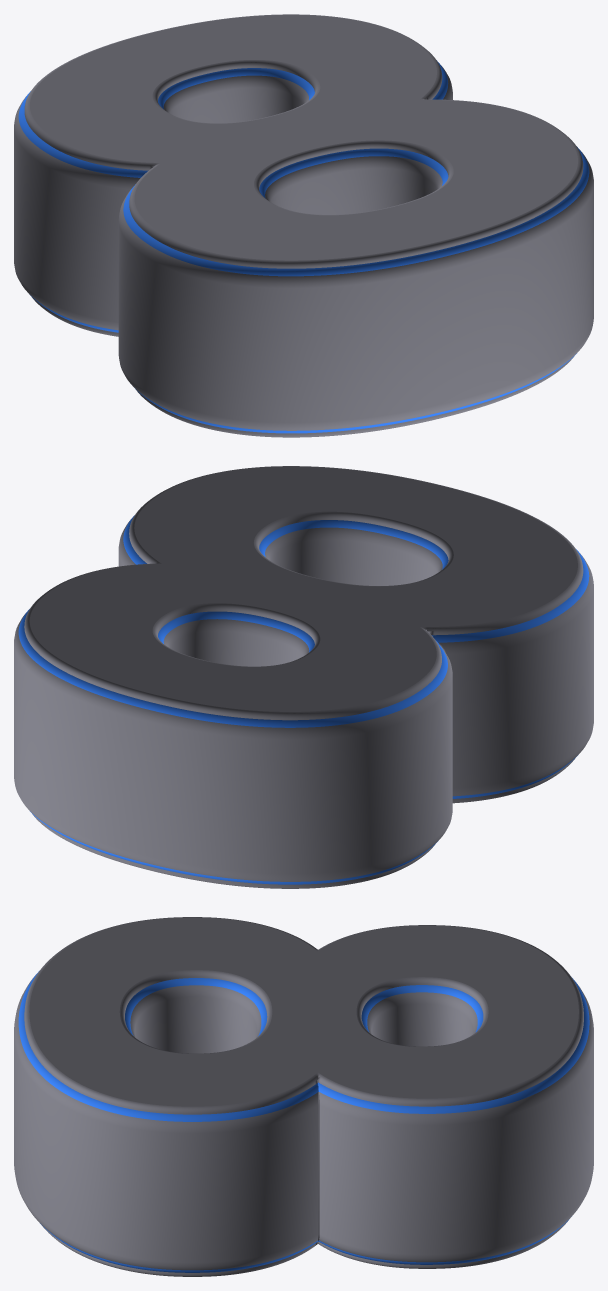
The model's file is 3d_number_-_8_eight.fbx.
3 renders of one model, top to bottom at view 1: azimuth 30°, elevation 25°; view 2: azimuth 150°, elevation 25°; view 3: azimuth 270°, elevation 25°, orthographic. The views are drawn at different scales.
Visible parts, largest first — view 1: imagetostl_mesh1, imagetostl_mesh2, imagetostl_mesh0; view 2: imagetostl_mesh1, imagetostl_mesh2, imagetostl_mesh0; view 3: imagetostl_mesh1, imagetostl_mesh2, imagetostl_mesh0.
Part boxes in pixels (<box>): imagetostl_mesh1: <box>14,65,593,430</box>; imagetostl_mesh2: <box>24,14,583,437</box>; imagetostl_mesh0: <box>18,60,589,433</box>; imagetostl_mesh1: <box>14,519,593,881</box>; imagetostl_mesh2: <box>24,466,583,888</box>; imagetostl_mesh0: <box>18,515,589,884</box>; imagetostl_mesh1: <box>14,976,593,1270</box>; imagetostl_mesh2: <box>24,917,583,1276</box>; imagetostl_mesh0: <box>18,971,589,1272</box>.
Size of the model in its own units: 46.96 by 18.4 by 56.95.
